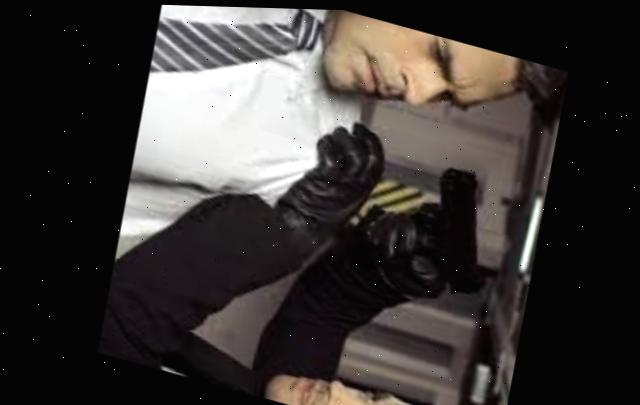pistol: (352, 138, 521, 307)
